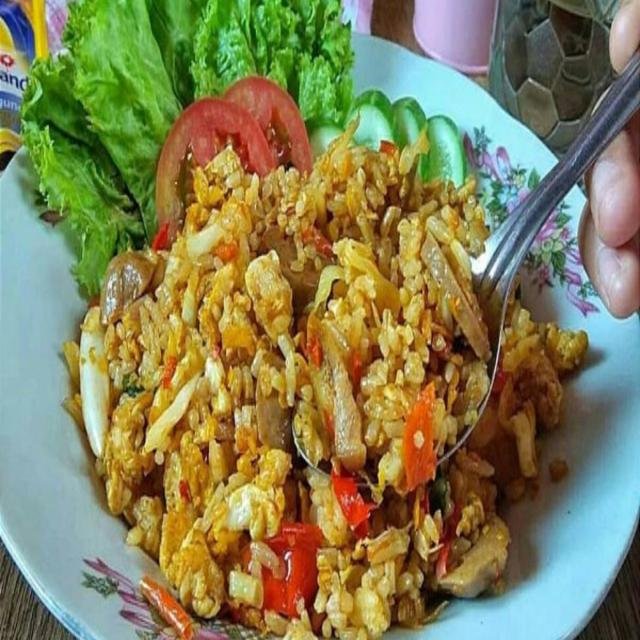Nasi Goreng: (99, 150, 556, 584)
